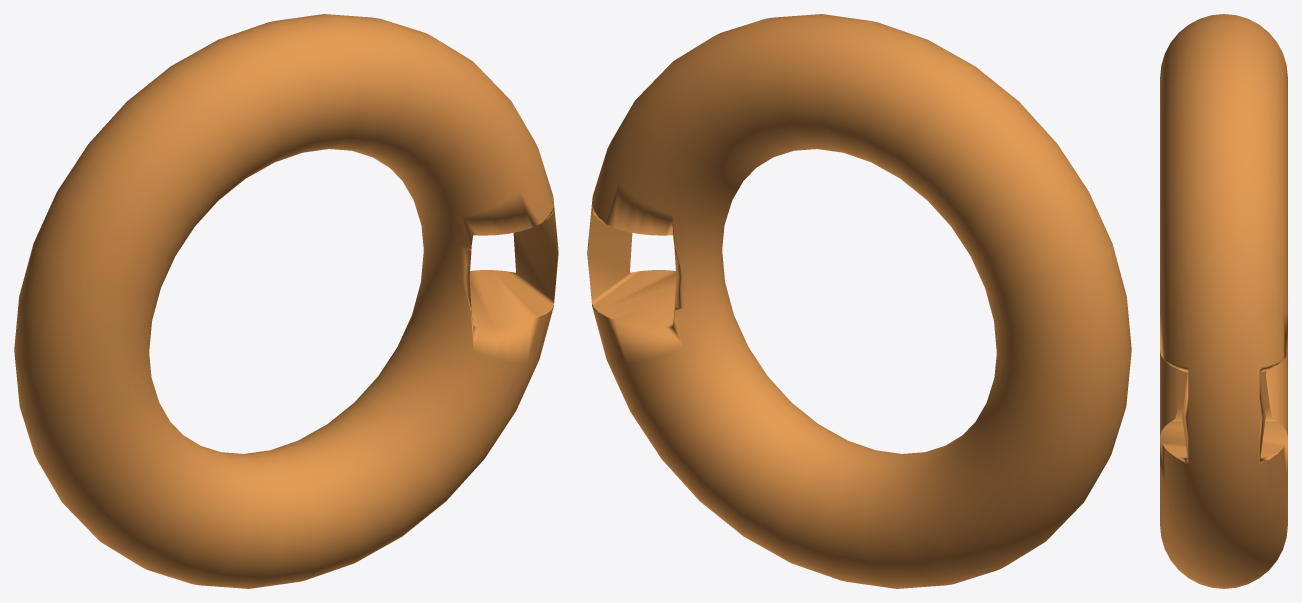
Rendered from expected.gltf.
3 renders of one model, left to right at view 1: azimuth 30°, elevation 25°; view 2: azimuth 150°, elevation 25°; view 3: azimuth 270°, elevation 25°, orthographic. The views are drawn at different scales.
Size of the model in its own units: 36 by 36 by 8.
